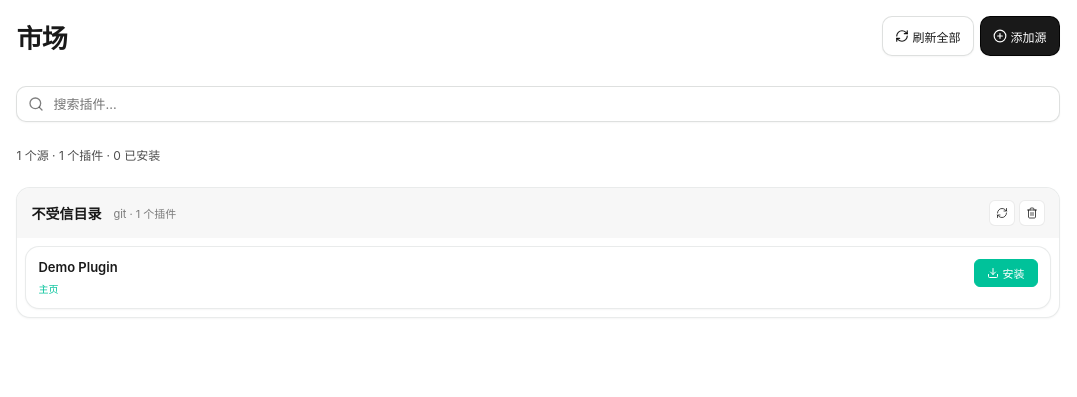
Test case: MarketplacePanel 外部链接 › 不把 catalog URL 放进 href，并在后端拒绝时显示错误
The image size is (1077, 397).
Click the button "主页" at point(48, 288), box left=38, top=281, right=58, bottom=296
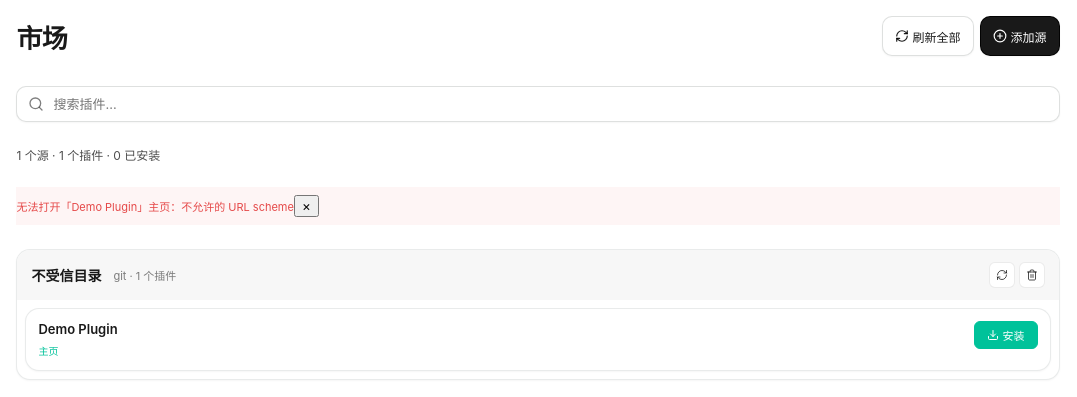
Check: the message shows "无法打开「Demo Plugin」主页：不允许的 URL scheme", box left=16, top=200, right=294, bottom=214
